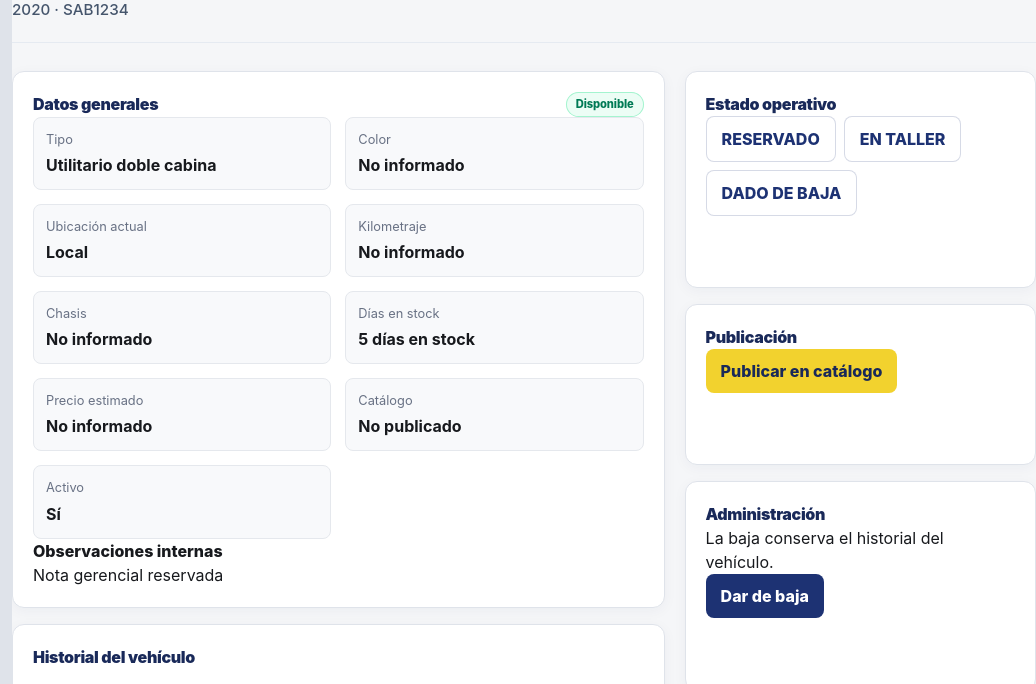
Test case: historial integrado en el detalle › recarga los eventos después de EN TALLER
Click the button "EN TALLER" at (903, 139), box [844,116,962,162]
(page scrolled)
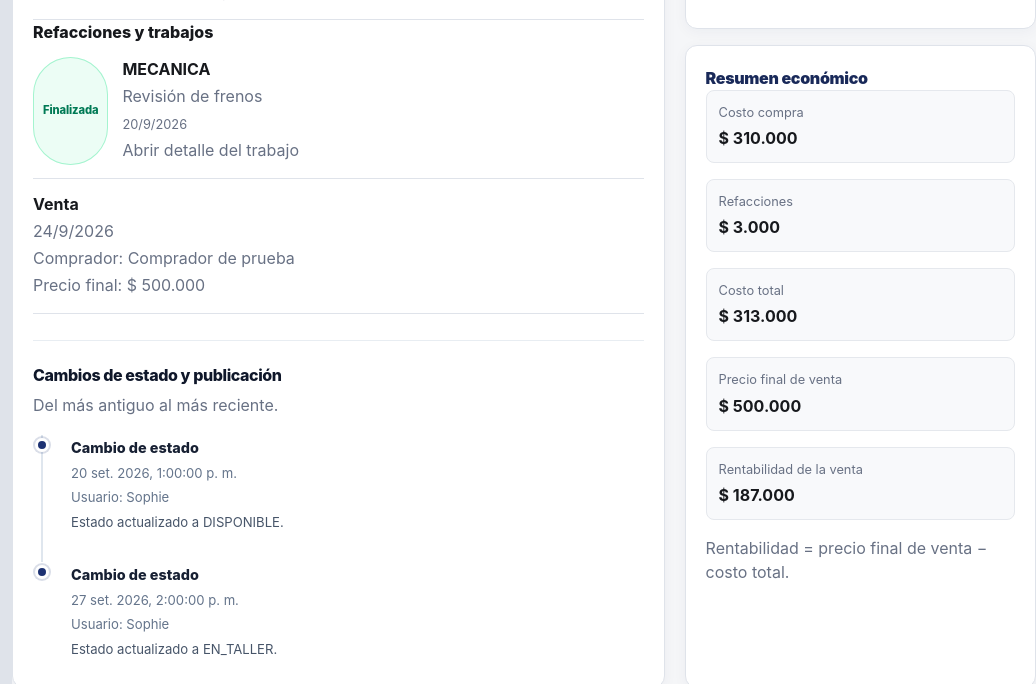
Now the text "Estado actualizado a EN_TALLER." is shown, box [71,641,277,657]
